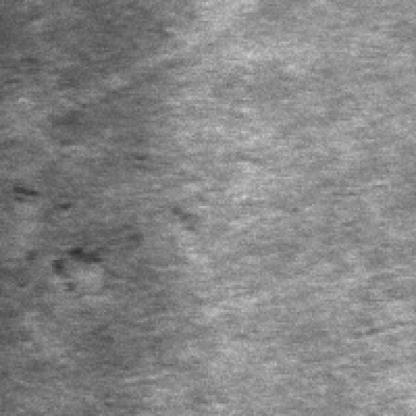rolled-in_scale: (13, 183, 162, 297)
